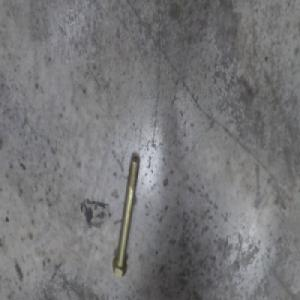Bolt: (111, 154, 139, 278)
